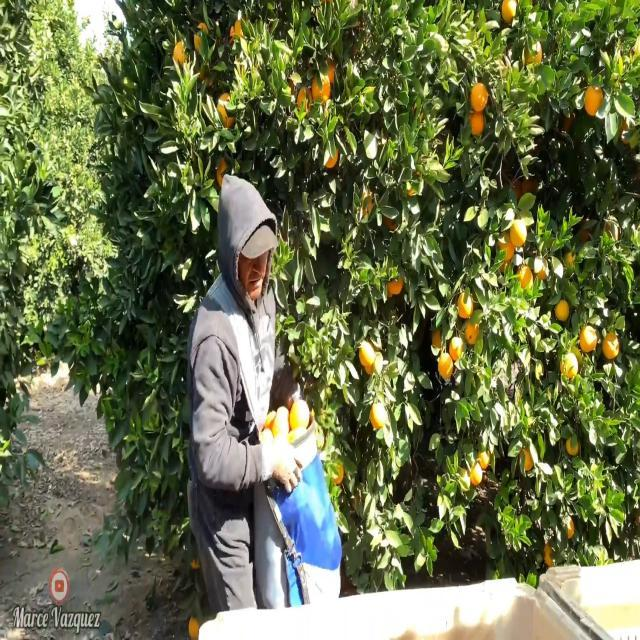Jeruk Sudah Matang: (354, 334, 384, 376), (582, 78, 606, 120), (467, 74, 492, 114), (557, 346, 582, 386), (309, 65, 332, 108), (446, 330, 474, 364), (434, 346, 459, 378), (600, 326, 622, 361), (510, 210, 530, 248), (578, 322, 600, 355), (552, 294, 572, 329), (456, 286, 474, 321), (496, 0, 521, 25), (466, 111, 488, 139), (368, 399, 388, 427), (386, 273, 406, 297)
